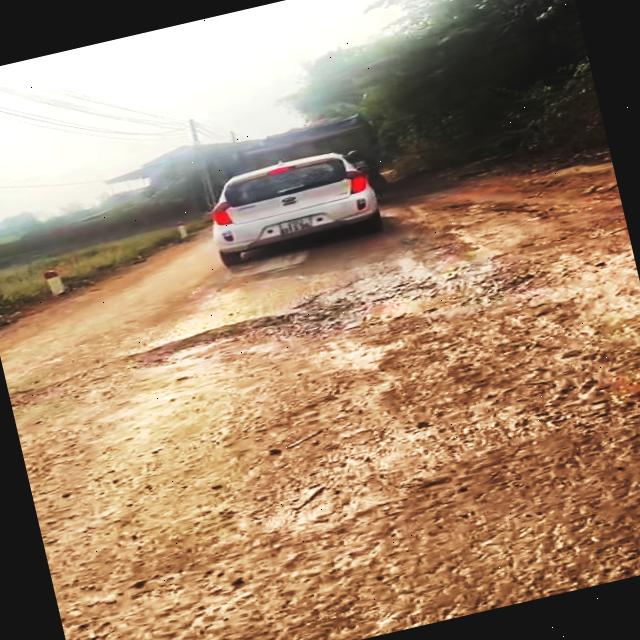pothole: (5, 310, 292, 412), (286, 252, 532, 352), (545, 353, 640, 476)
